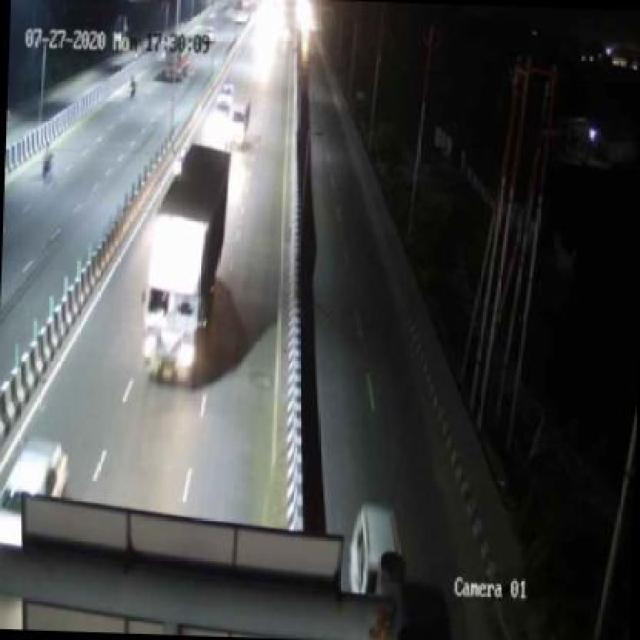car: (1, 432, 74, 545), (340, 502, 406, 609), (228, 97, 257, 148), (215, 81, 237, 112)
